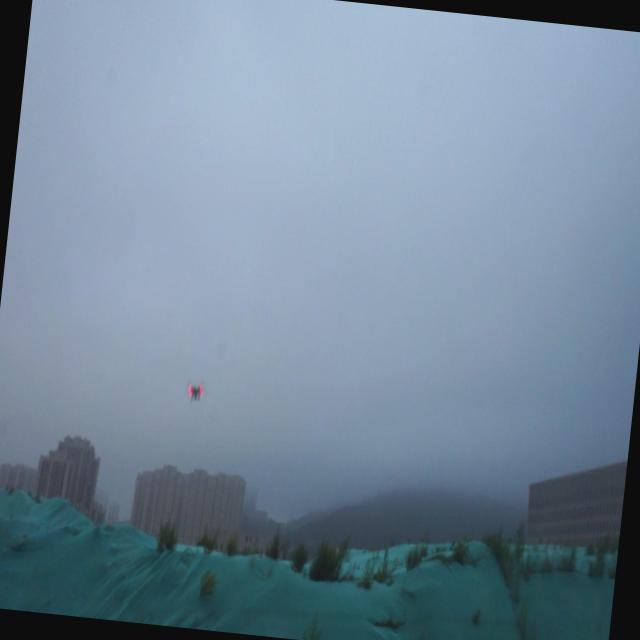drone: (184, 378, 207, 407)
